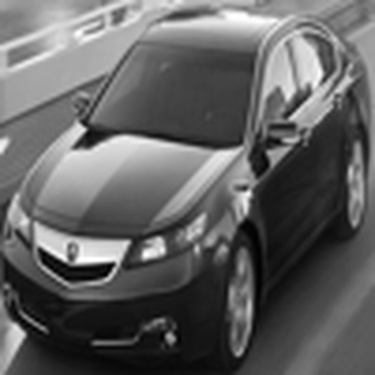car: (3, 1, 371, 370)
